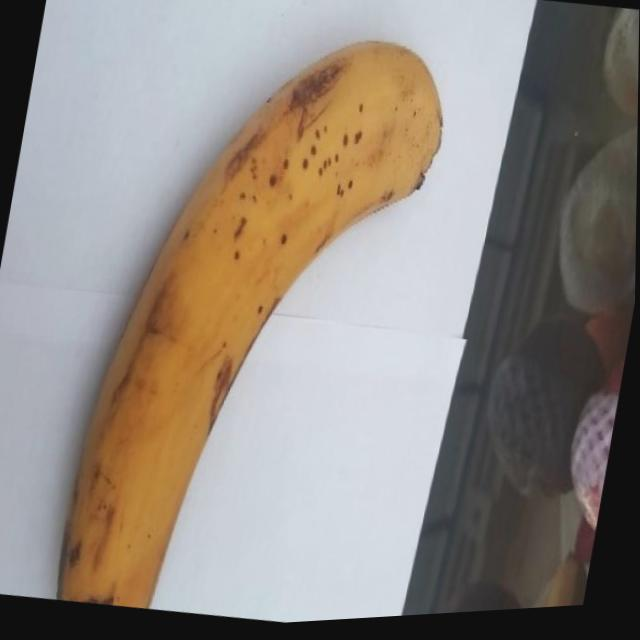Banana: (52, 4, 462, 637)
